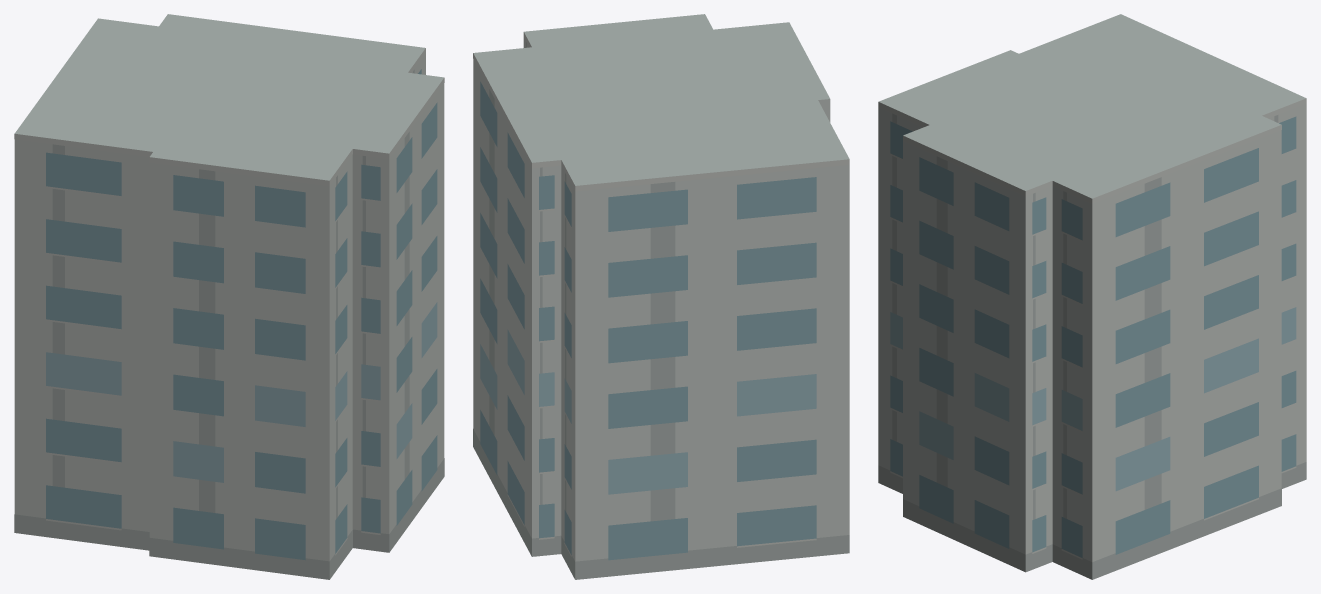
The model's file is survey-upis-33018221.glb.
The picture shows the model from 3 angles, left to right: view 1: azimuth 30°, elevation 25°; view 2: azimuth 150°, elevation 25°; view 3: azimuth 270°, elevation 25°; orthographic projection. The views are drawn at different scales.
Parts seen in each view (by area): view 1: survey-upis-33018221.tmp; view 2: survey-upis-33018221.tmp; view 3: survey-upis-33018221.tmp.
Part boxes in pixels (<box>): survey-upis-33018221.tmp: <box>14,14,444,579</box>; survey-upis-33018221.tmp: <box>473,14,849,579</box>; survey-upis-33018221.tmp: <box>878,14,1306,579</box>.
Bounding box in the file's own units: 17.99 × 17.3 × 17.62.
